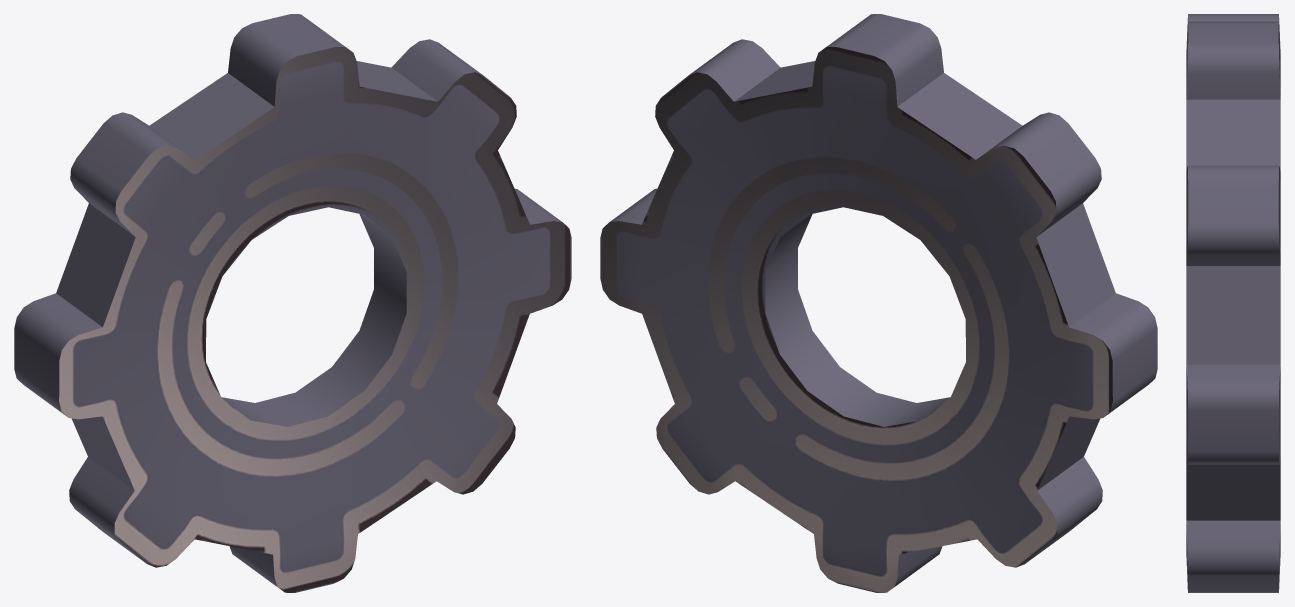
File: gear.fbx
3 views of the same model, side by side, from view 1: azimuth 30°, elevation 25°; view 2: azimuth 150°, elevation 25°; view 3: azimuth 270°, elevation 25° (orthographic).
Parts seen in each view (by area): view 1: polySurface1; view 2: polySurface1; view 3: polySurface1.
Part boxes in pixels (x1,y1,x2,y2): polySurface1: (14, 14, 571, 592); polySurface1: (600, 14, 1157, 592); polySurface1: (1186, 14, 1280, 592).
Size of the model in its own units: 4.26 by 4.26 by 0.6728.
1 material, 1 textured.
